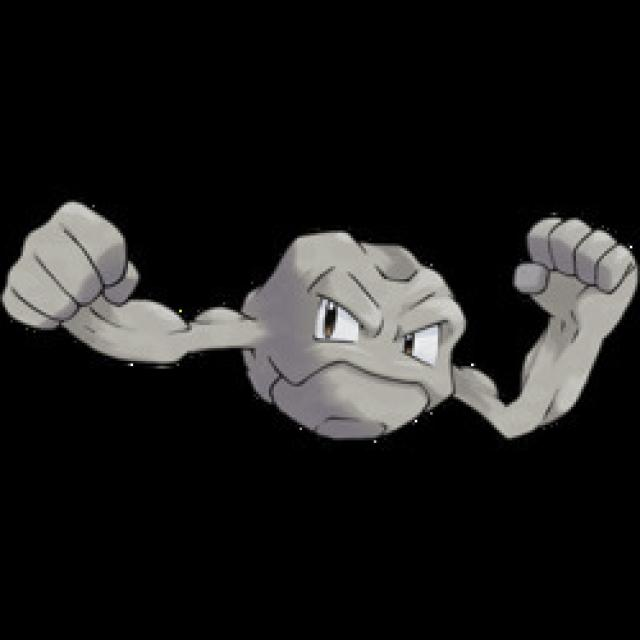Geodude: (58, 218, 620, 442)
